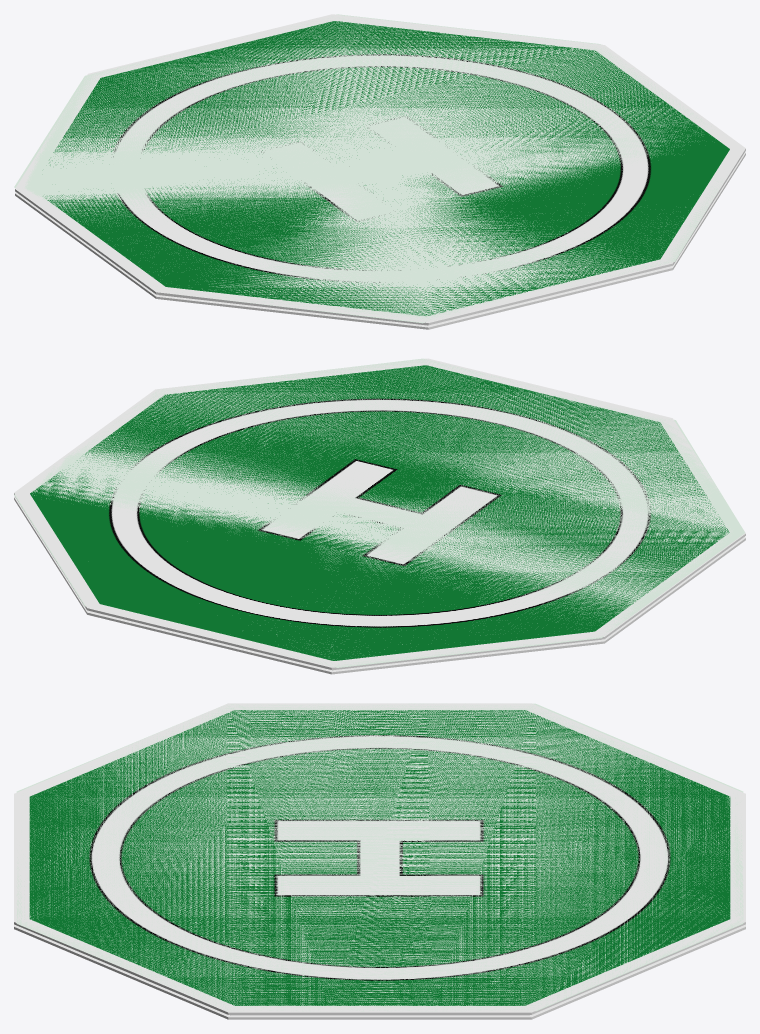
The model's file is GBZH35_Helipad_Octo_Pad.gltf.
The picture shows the model from 3 angles, top to bottom: view 1: azimuth 30°, elevation 25°; view 2: azimuth 150°, elevation 25°; view 3: azimuth 270°, elevation 25°; orthographic projection. The views are drawn at different scales.
Visible parts, largest first — view 1: Pad_Octo; view 2: Pad_Octo; view 3: Pad_Octo.
Part boxes in pixels (x1,y1,x2,y2): Pad_Octo: [14, 14, 745, 329]; Pad_Octo: [14, 358, 745, 674]; Pad_Octo: [14, 703, 745, 1019].
Bounding box in the file's own units: 18.54 × 0.2 × 18.54.
